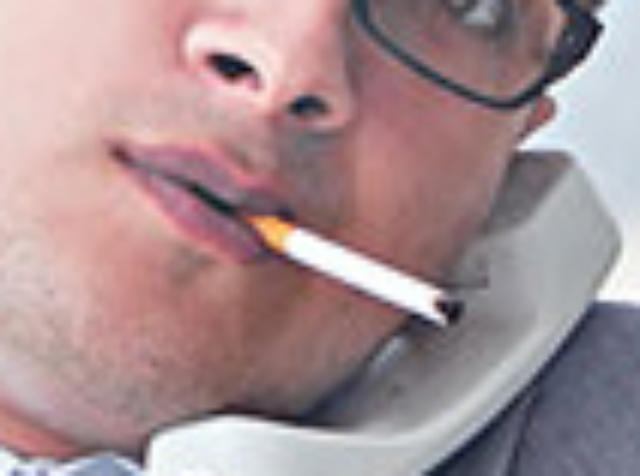Smoking: (248, 200, 470, 332)
